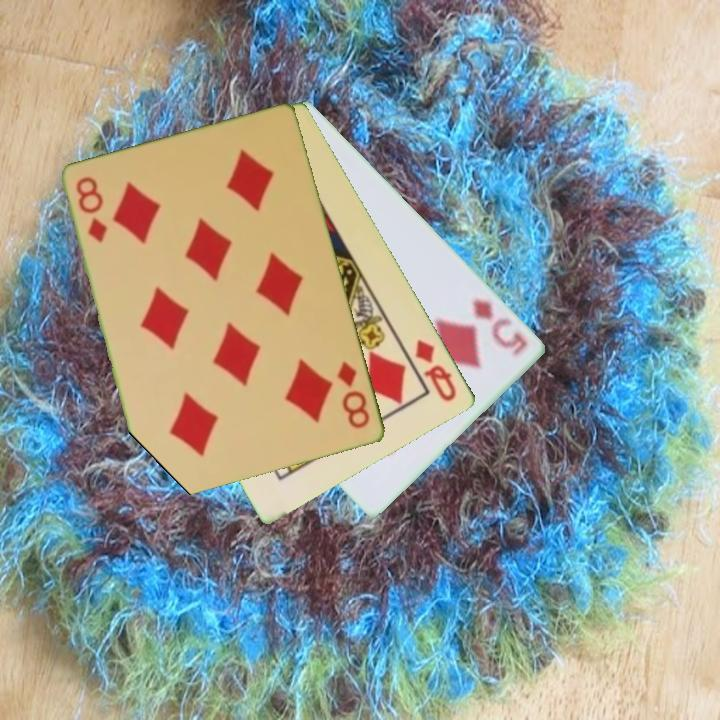5d: (469, 294, 531, 360)
8d: (333, 357, 374, 432), (73, 173, 111, 246)
Qd: (412, 336, 460, 405)
